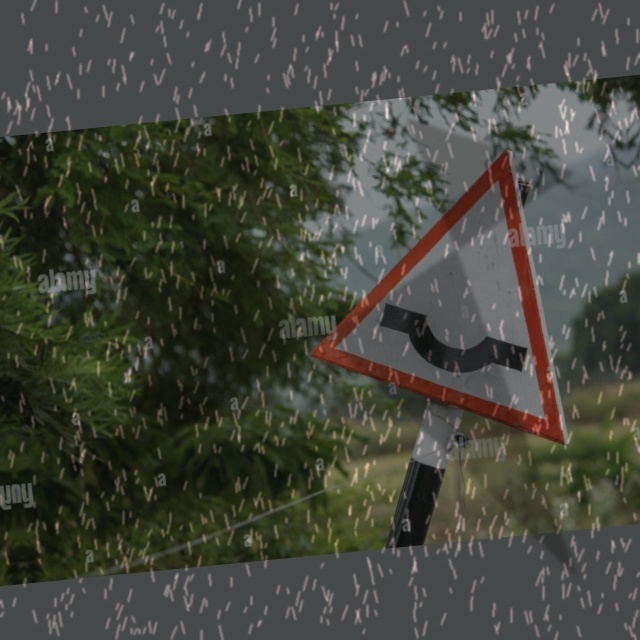Dangerous_Dip: (288, 142, 574, 466)
